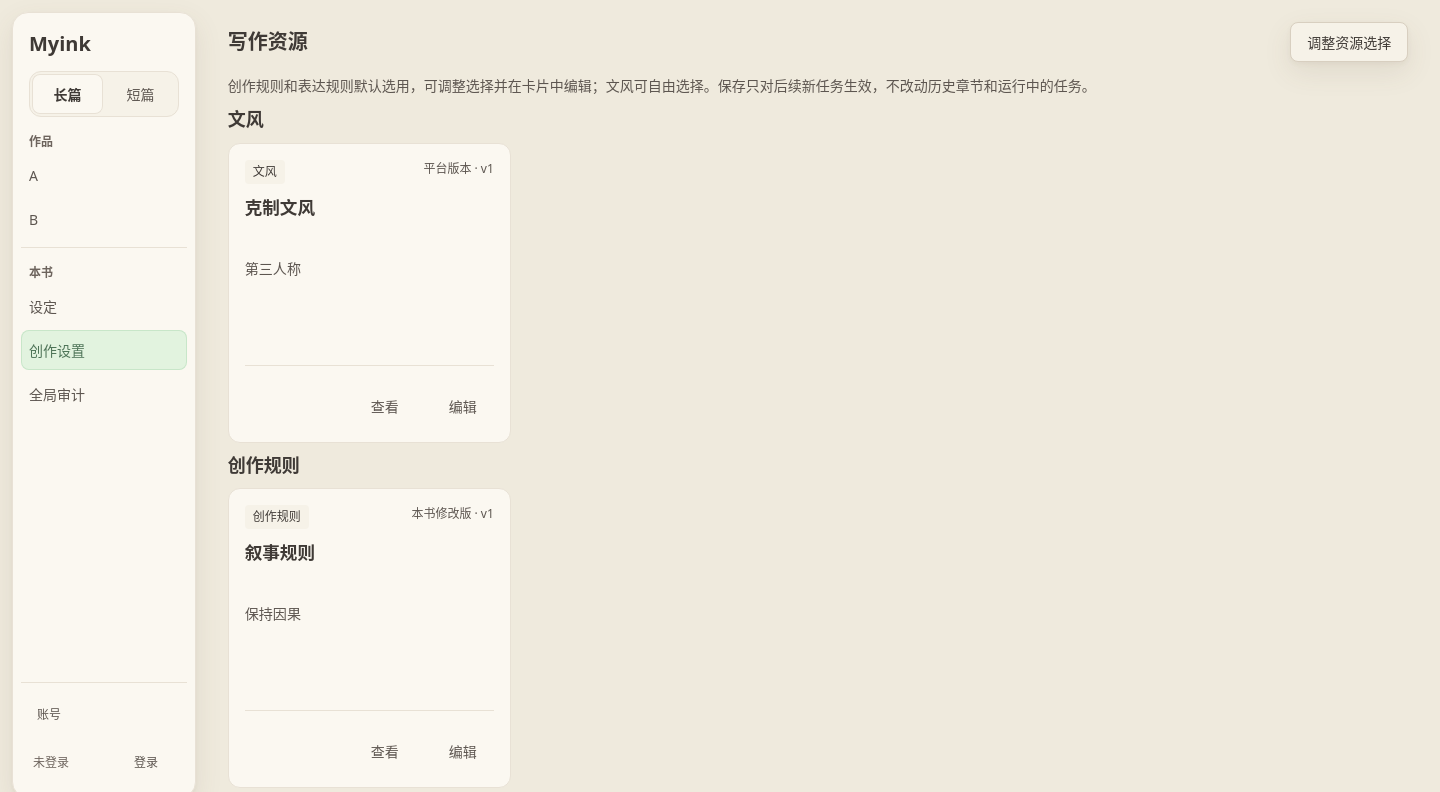
saves edited project content with revision CAS while preserving the other optional resources
(page scrolled)
Click the button with aria-label "编辑 克制文风" at (463, 406), box [432, 386, 494, 426]
(page scrolled)
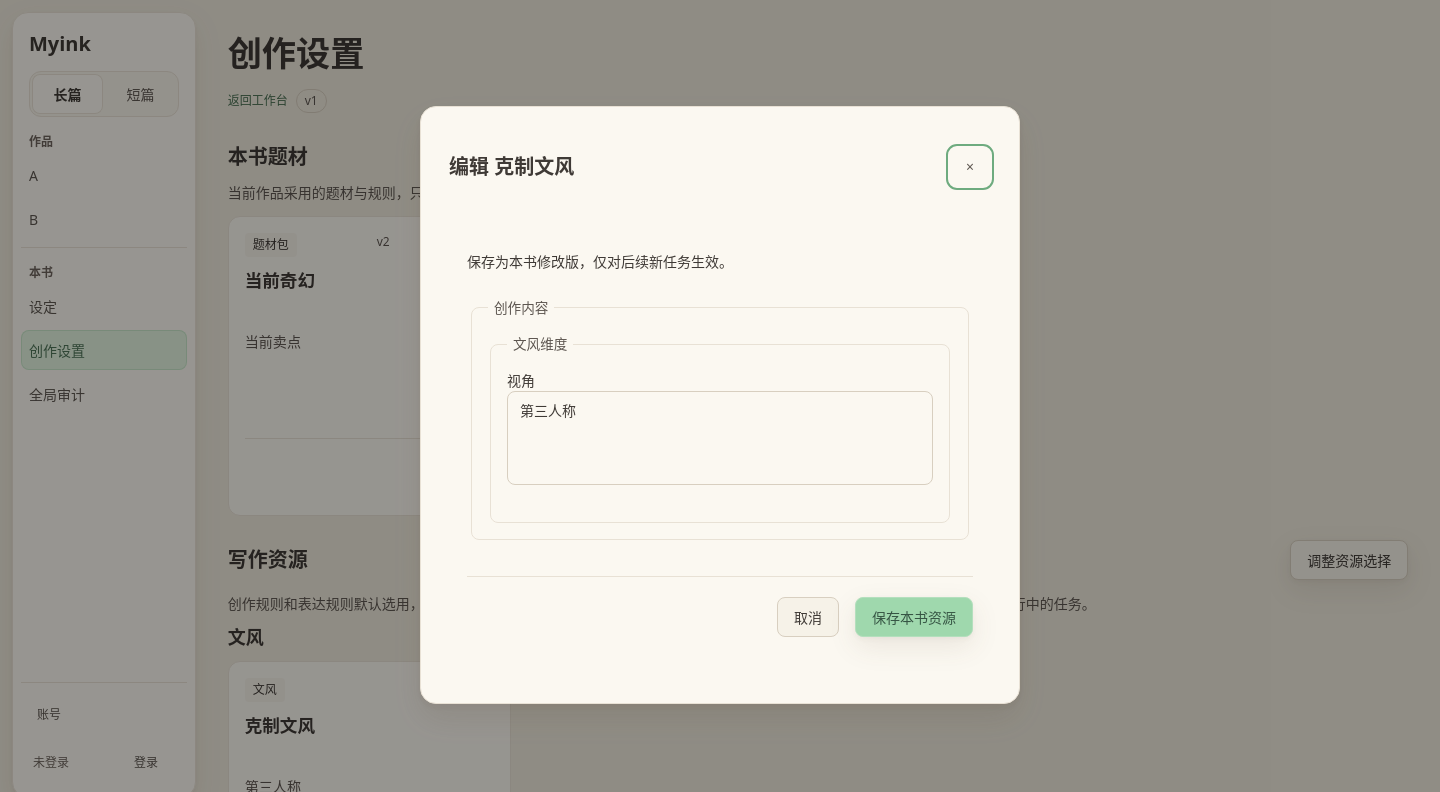
Replace the text in the text box labelled "视角" with "第一人称" at (720, 438), box [507, 391, 933, 485]
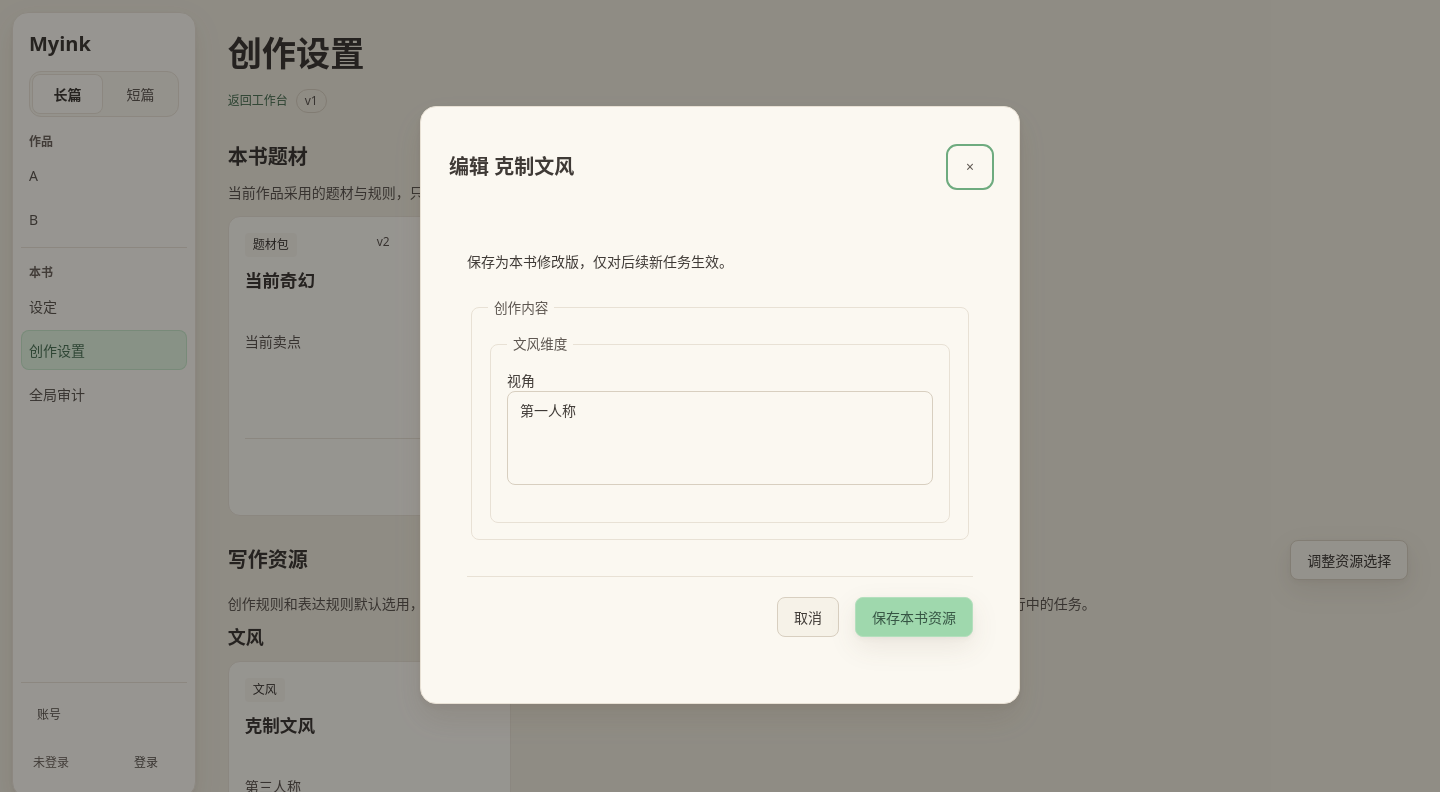
Click the button "保存本书资源" at (914, 617), box [855, 597, 973, 637]
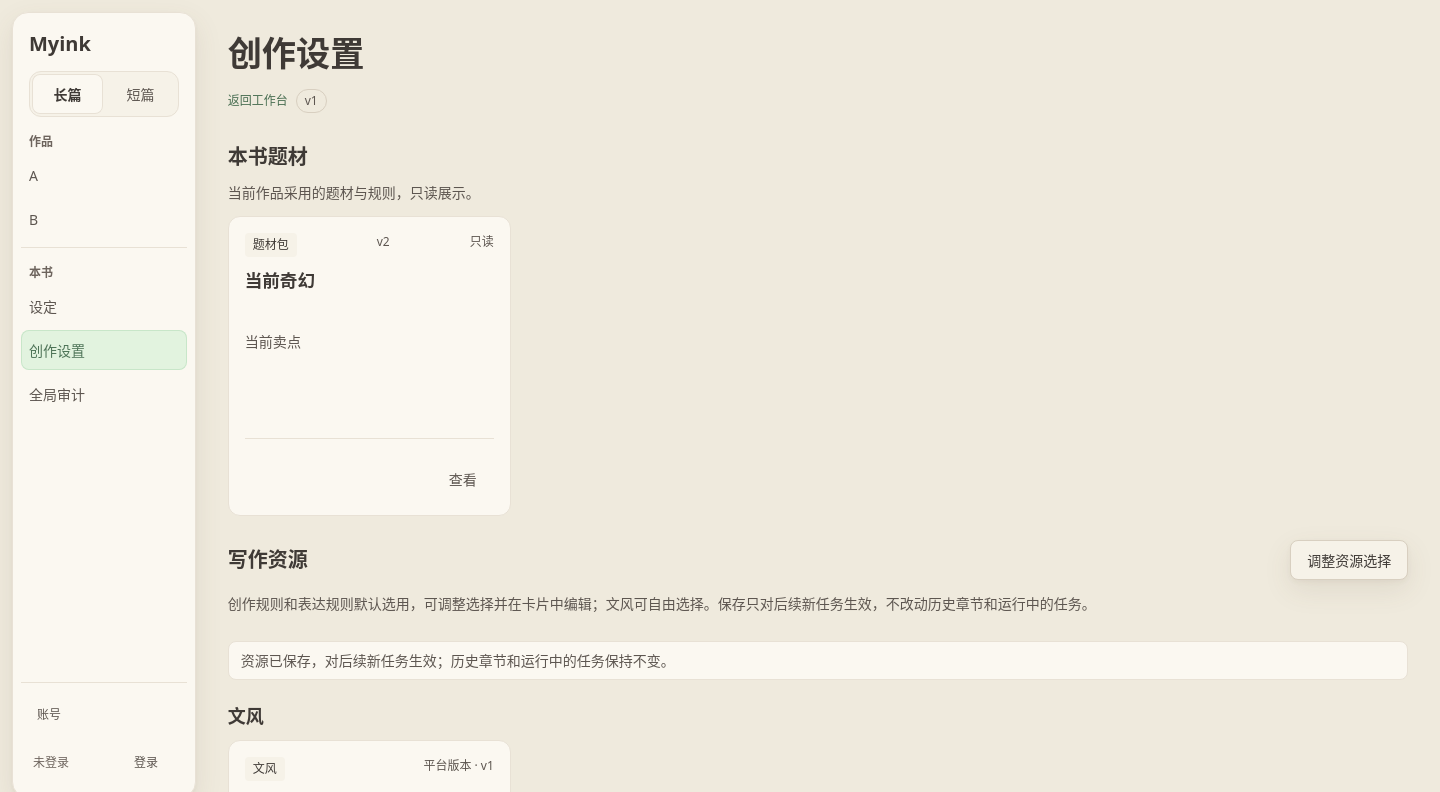
Result: the text "资源已保存，对后续新任务生效；历史章节和运行中的任务保持不变。" is shown at [228, 641, 1408, 680]
Result: the dialog is gone
